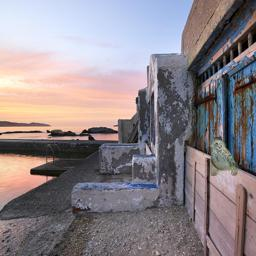Sparrow: (209, 138, 238, 176)
